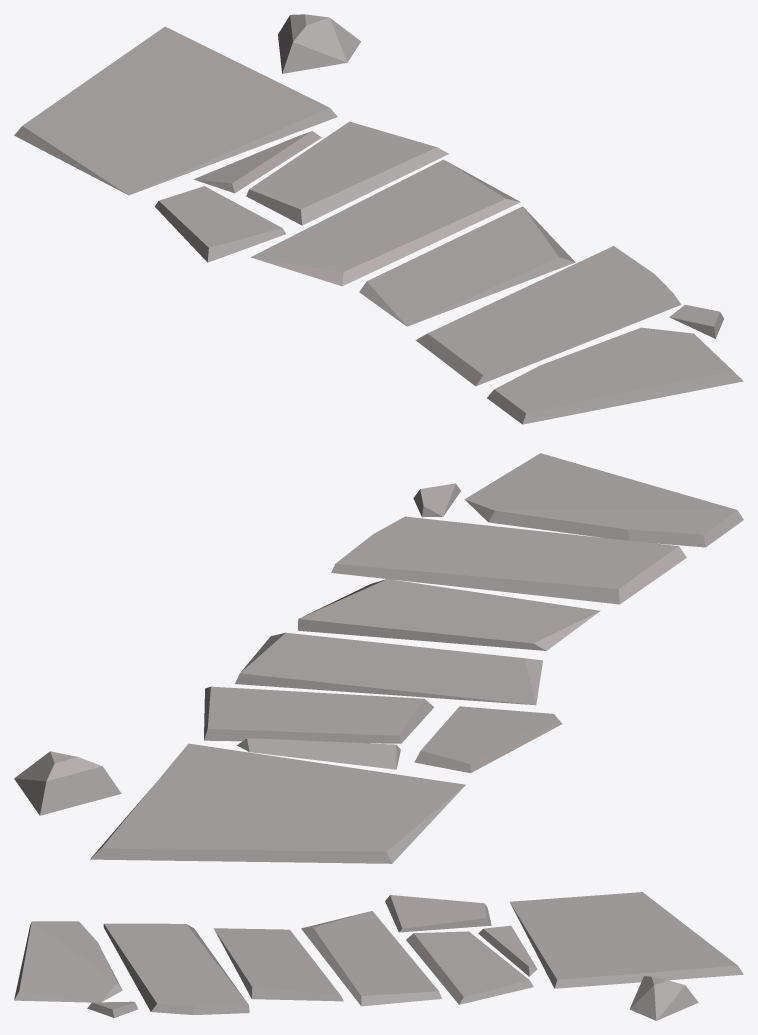
Rendered from Path_Stepping_Stone_Env_02.glb.
3 views of the same model, one above another, from view 1: azimuth 30°, elevation 25°; view 2: azimuth 150°, elevation 25°; view 3: azimuth 270°, elevation 25° (orthographic). The views are drawn at different scales.
Parts seen in each view (by area): view 1: Path_Stepping_Stone_Env_02; view 2: Path_Stepping_Stone_Env_02; view 3: Path_Stepping_Stone_Env_02.
Boxes of the visible parts, x1,y1,x2,y2 form: Path_Stepping_Stone_Env_02: (14, 14, 743, 424); Path_Stepping_Stone_Env_02: (14, 453, 743, 863); Path_Stepping_Stone_Env_02: (14, 892, 743, 1020).
Bounding box in the file's own units: 4.52 × 0.4219 × 11.07.
1 material, 1 textured.
